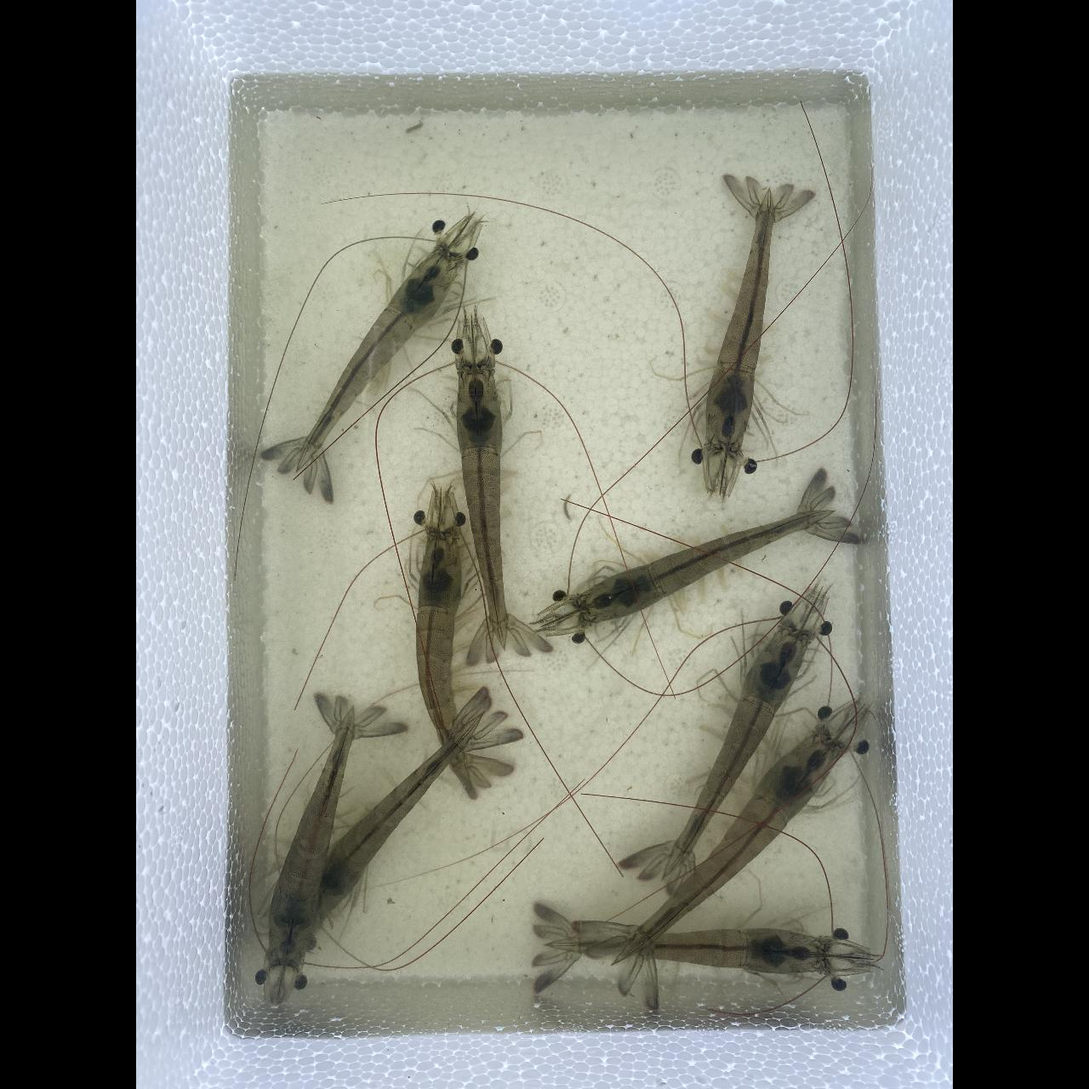top_shrimp: (611, 734, 840, 965), (287, 713, 485, 928), (663, 628, 806, 882), (296, 250, 456, 472), (581, 510, 836, 623), (268, 707, 355, 970), (704, 185, 775, 453), (456, 365, 508, 649), (416, 531, 471, 790), (544, 928, 824, 975)
